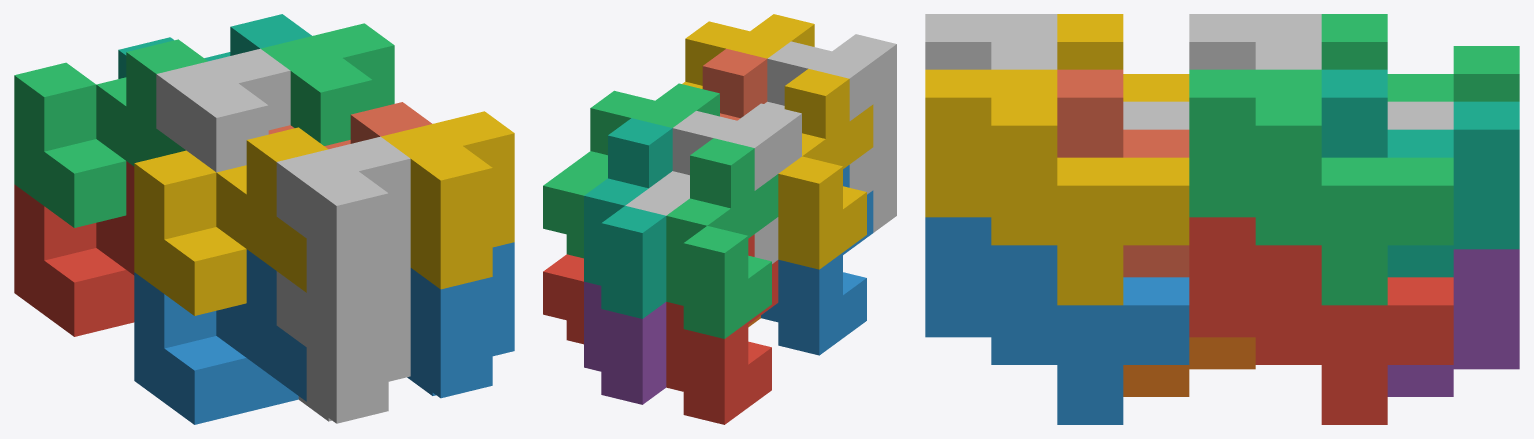
File: tiling.obj
3 renders of one model, left to right at view 1: azimuth 30°, elevation 25°; view 2: azimuth 150°, elevation 25°; view 3: azimuth 270°, elevation 25°, orthographic. The views are drawn at different scales.
Parts seen in each view (by area): view 1: copy_1_domain_4, copy_1_domain_3, copy_1_domain_2, copy_2_domain_4, copy_2_domain_8, copy_1_domain_1, copy_2_domain_2, copy_2_domain_3, copy_2_domain_6, copy_2_domain_7, copy_1_domain_7, copy_1_domain_8; view 2: copy_1_domain_3, copy_1_domain_4, copy_1_domain_7, copy_1_domain_1, copy_2_domain_7, copy_2_domain_3, copy_1_domain_2, copy_1_domain_5, copy_2_domain_4, copy_2_domain_8, copy_1_domain_8, copy_2_domain_2 (+2 smaller); view 3: copy_2_domain_7, copy_2_domain_8, copy_2_domain_5, copy_2_domain_6, copy_1_domain_7, copy_1_domain_5, copy_1_domain_8, copy_2_domain_3, copy_2_domain_4, copy_1_domain_3, copy_1_domain_4, copy_1_domain_6.
Part boxes in pixels (x1,y1,x2,y2): copy_1_domain_4: (134,127,327,315); copy_1_domain_3: (14,39,207,227); copy_1_domain_2: (134,249,306,424); copy_2_domain_4: (276,136,410,314); copy_2_domain_8: (381,111,514,289); copy_1_domain_1: (14,161,134,336); copy_2_domain_2: (276,267,410,423); copy_2_domain_3: (156,48,290,172); copy_2_domain_6: (407,242,514,398); copy_2_domain_7: (261,23,394,145); copy_1_domain_7: (118,14,311,78); copy_1_domain_8: (268,102,432,149); copy_1_domain_3: (666,138,778,338); copy_1_domain_4: (778,68,873,269); copy_1_domain_7: (584,118,672,318); copy_1_domain_1: (666,234,778,424); copy_2_domain_7: (543,83,719,258); copy_2_domain_3: (625,103,801,215); copy_1_domain_2: (761,165,873,355); copy_1_domain_5: (584,281,666,404); copy_2_domain_4: (764,34,896,146); copy_2_domain_8: (682,14,814,88); copy_1_domain_8: (702,48,767,120); copy_2_domain_2: (849,130,896,232); copy_2_domain_7: (1189,69,1453,305); copy_2_domain_8: (925,69,1189,305); copy_2_domain_5: (1189,217,1453,424); copy_2_domain_6: (925,217,1189,424); copy_1_domain_7: (1321,69,1519,277); copy_1_domain_5: (1387,249,1519,396); copy_1_domain_8: (1057,69,1189,277); copy_2_domain_3: (1189,14,1453,129); copy_2_domain_4: (925,14,1189,129); copy_1_domain_3: (1321,14,1519,101); copy_1_domain_4: (1057,14,1189,101); copy_1_domain_6: (1123,337,1255,396).
Size of the model in its own units: 5 by 5 by 9.
